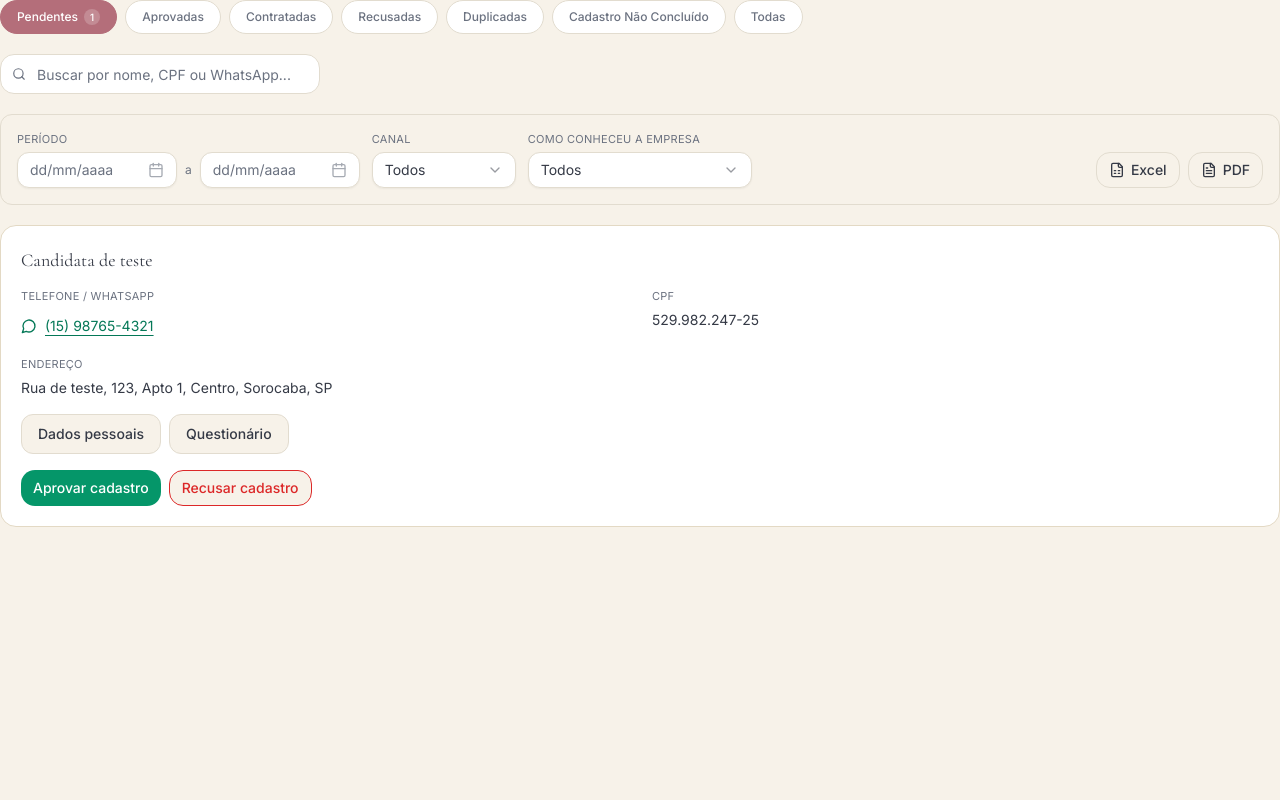
Captação · respostas da candidata › identifica respostas ausentes em cadastros antigos sem inventar respostas
This screenshot has width=1280, height=800.
What coordinates should you click on to do the following:
click the button "Questionário"
I would click on:
 (229, 434)
Its box is [169,414,289,454].
(page scrolled)
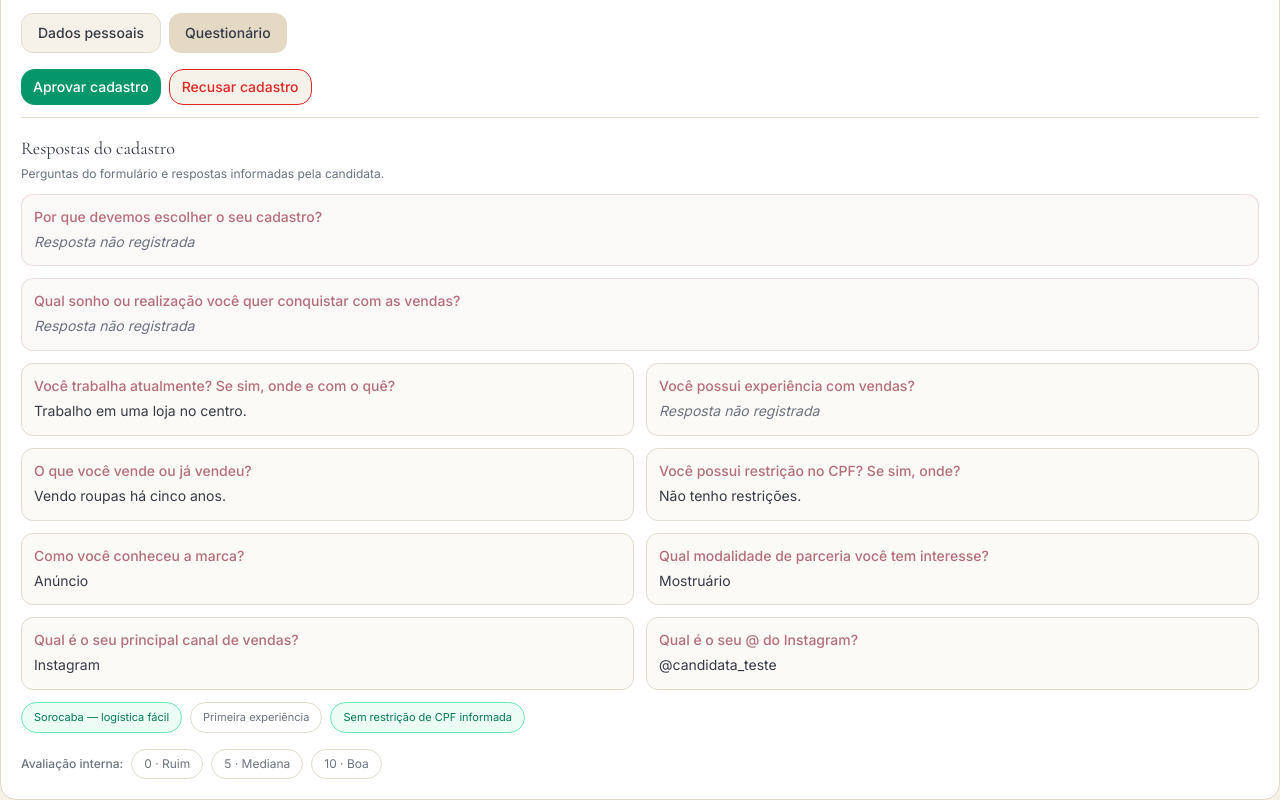
Now the text "Resposta não registrada" below "Você possui experiência com vendas?" is shown, box [659,402,819,419]
